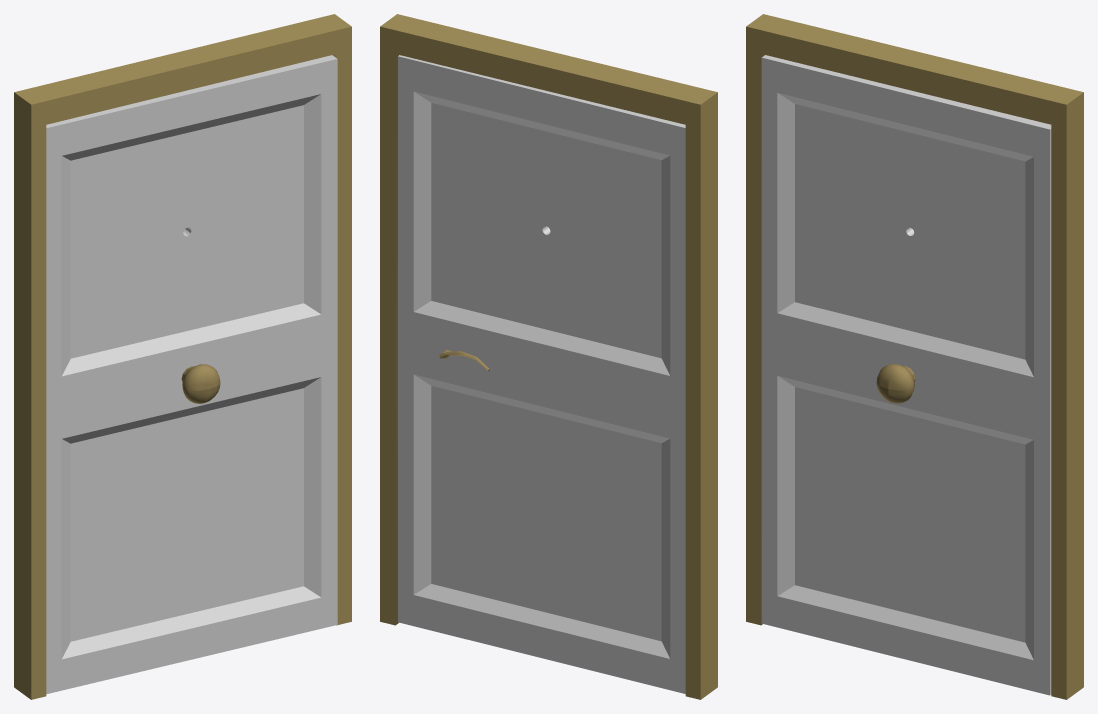
The model's file is door.fbx.
3 renders of one model, left to right at view 1: azimuth 30°, elevation 25°; view 2: azimuth 150°, elevation 25°; view 3: azimuth 330°, elevation 25°, orthographic.
Parts seen in each view (by area): view 1: Cube, Cube.001; view 2: Cube, Cube.001; view 3: Cube, Cube.001.
Part boxes in pixels (x1,y1,x2,y2): Cube: (46,55,337,694); Cube.001: (14,14,351,699); Cube: (398,55,685,693); Cube.001: (380,14,717,699); Cube: (761,55,1051,695); Cube.001: (746,14,1083,699).
Size of the model in its own units: 119 by 210 by 25.91.
